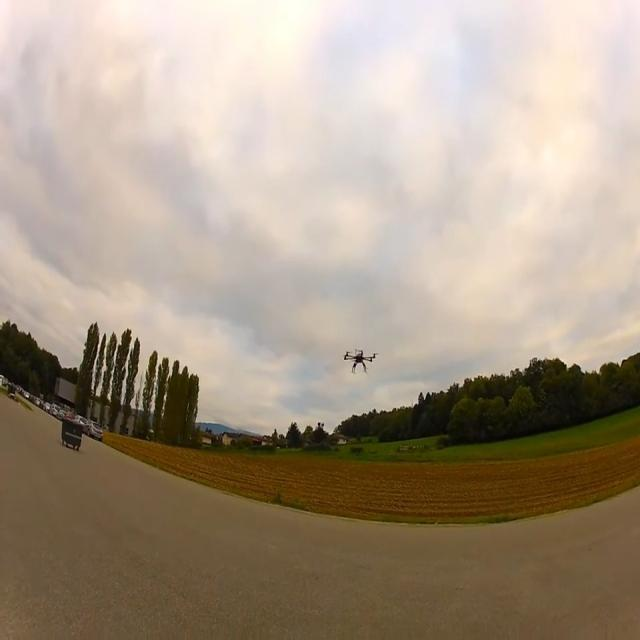drone: (343, 348, 378, 373)
